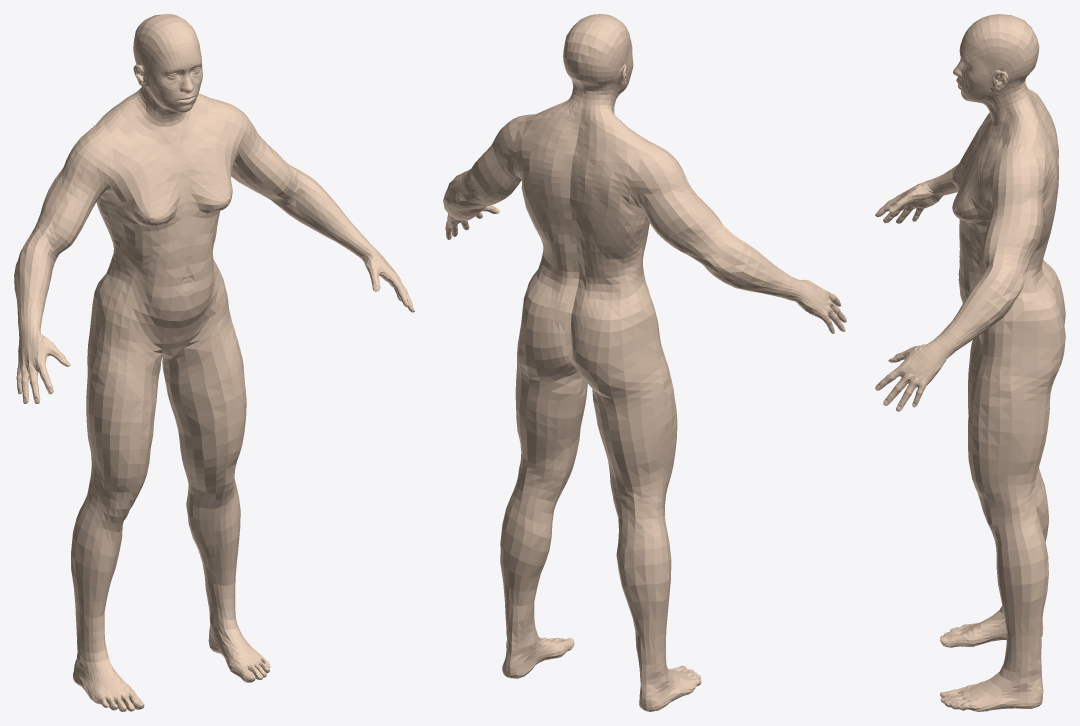
The model's file is female-mature-max-high.glb.
3 renders of one model, left to right at view 1: azimuth 30°, elevation 25°; view 2: azimuth 150°, elevation 25°; view 3: azimuth 270°, elevation 25°, orthographic.
Visible parts, largest first — view 1: world; view 2: world; view 3: world.
Boxes of the visible parts, left/top/right/bottom form: world: left=14, top=14, right=414, bottom=711; world: left=443, top=14, right=846, bottom=711; world: left=875, top=14, right=1065, bottom=711.
Size of the model in its own units: 1.15 by 1.86 by 0.4888.
